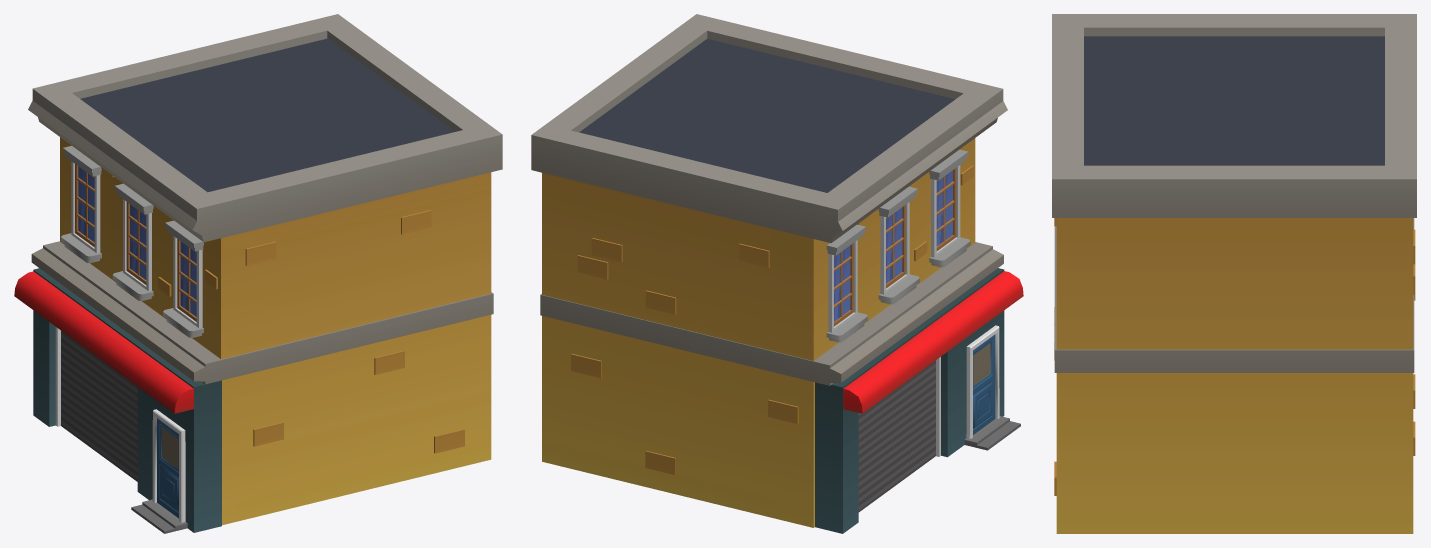
The model's file is Building_19_3_F.fbx.
The picture shows the model from 3 angles, left to right: view 1: azimuth 30°, elevation 25°; view 2: azimuth 150°, elevation 25°; view 3: azimuth 270°, elevation 25°; orthographic projection. The views are drawn at different scales.
Parts seen in each view (by area): view 1: Building_19_3_F; view 2: Building_19_3_F; view 3: Building_19_3_F.
Part boxes in pixels (x1,y1,x2,y2): Building_19_3_F: (14, 14, 502, 533); Building_19_3_F: (531, 14, 1023, 533); Building_19_3_F: (1052, 14, 1416, 533).
Bounding box in the file's own units: 774 × 726 × 667.
